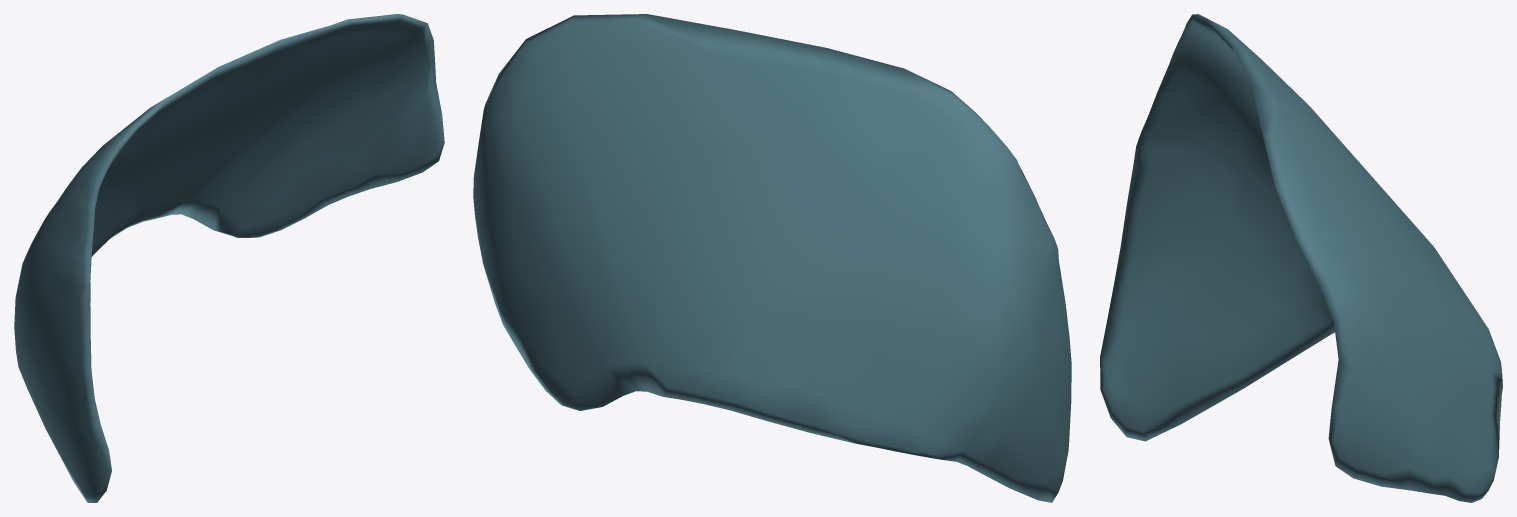
Rendered from Triceps_brachii-Ulnar_insertion.l_Generated_Mesh_From_X3D.630.glb.
The picture shows the model from 3 angles, left to right: view 1: azimuth 30°, elevation 25°; view 2: azimuth 150°, elevation 25°; view 3: azimuth 270°, elevation 25°; orthographic projection. The views are drawn at different scales.
Visible parts, largest first — view 1: Triceps_brachii-Ulnar_insertion.l_Generated_Mesh_From_X3D.63; view 2: Triceps_brachii-Ulnar_insertion.l_Generated_Mesh_From_X3D.63; view 3: Triceps_brachii-Ulnar_insertion.l_Generated_Mesh_From_X3D.63.
Boxes of the visible parts, x1,y1,x2,y2 form: Triceps_brachii-Ulnar_insertion.l_Generated_Mesh_From_X3D.63: (14, 14, 444, 502); Triceps_brachii-Ulnar_insertion.l_Generated_Mesh_From_X3D.63: (473, 14, 1071, 502); Triceps_brachii-Ulnar_insertion.l_Generated_Mesh_From_X3D.63: (1100, 14, 1502, 502).
Bounding box in the file's own units: 0.0222 × 0.0179 × 0.0128.
